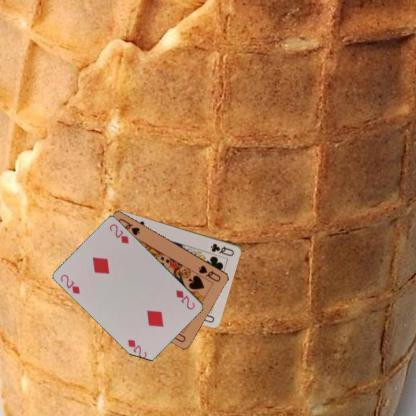2d: (58, 272, 82, 296), (173, 287, 196, 311)
Qc: (208, 241, 236, 257)
Qs: (196, 263, 223, 283)
